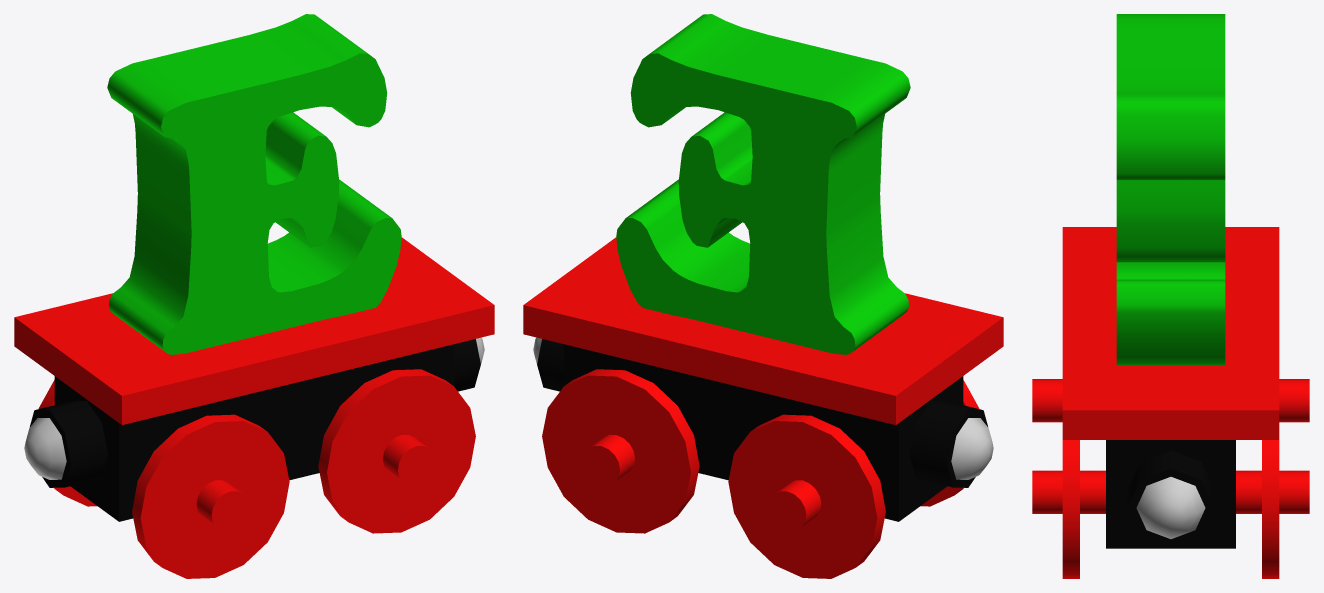
File: Ecar.glb
3 renders of one model, left to right at view 1: azimuth 30°, elevation 25°; view 2: azimuth 150°, elevation 25°; view 3: azimuth 270°, elevation 25°, orthographic.
Parts seen in each view (by area): view 1: WagonWithLetterLowPoly; view 2: WagonWithLetterLowPoly; view 3: WagonWithLetterLowPoly.
Boxes of the visible parts, left/top/right/bottom form: WagonWithLetterLowPoly: left=14, top=14, right=494, bottom=578; WagonWithLetterLowPoly: left=523, top=14, right=1003, bottom=578; WagonWithLetterLowPoly: left=1032, top=14, right=1309, bottom=578.
Bounding box in the file's own units: 6.06 × 5.94 × 3.2.
Materials: 1 (1 with a texture image).
